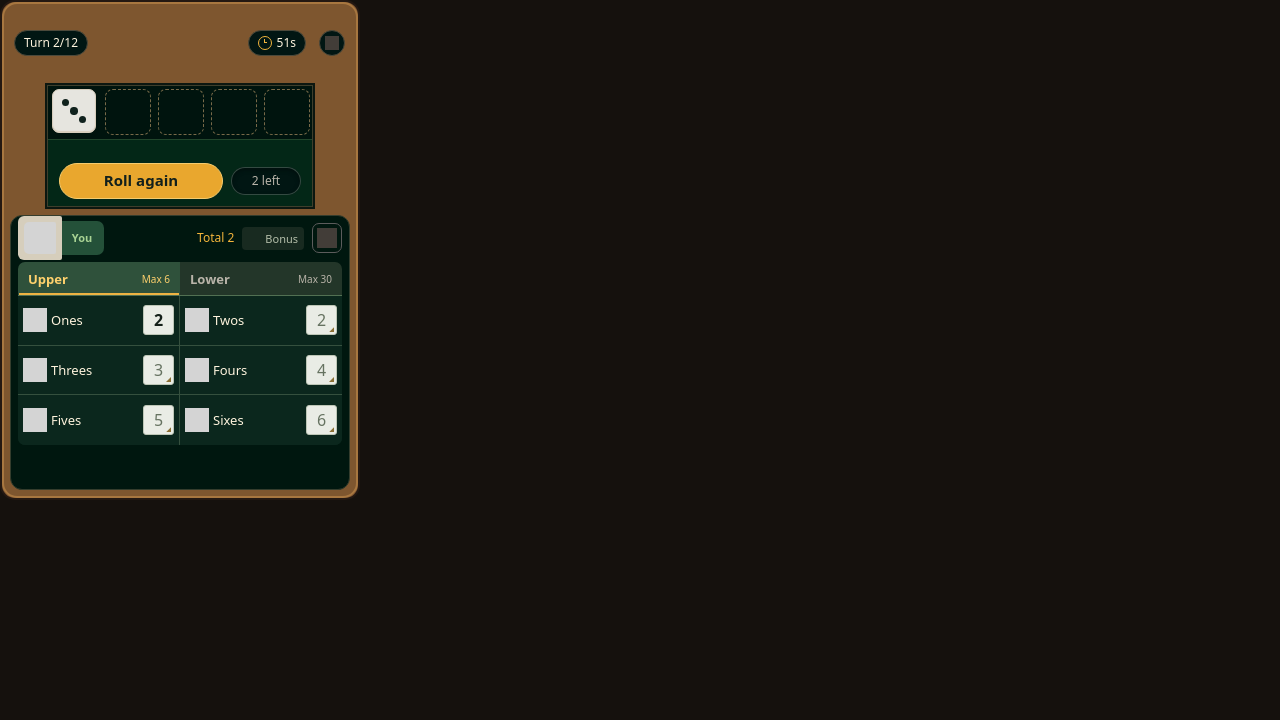
Test: keeps the authoritative turn timer running behind a rate-limit notice
Click the button "Roll again": (141, 181) [59,159,223,203]
Wait 1000 ms
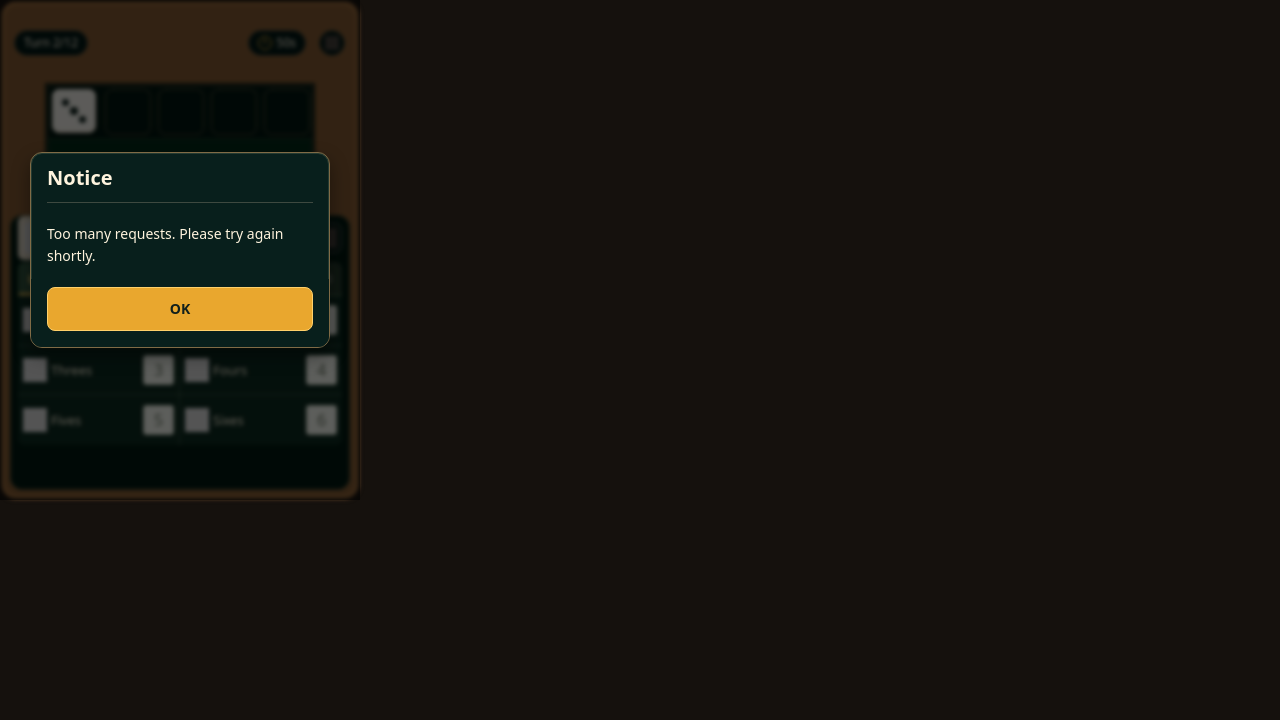
expect the dialog is shown: met, box [0,0,360,500]
expect the text "50s" is shown: met, box [248,30,306,56]
